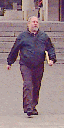person: (19, 17, 46, 113)
